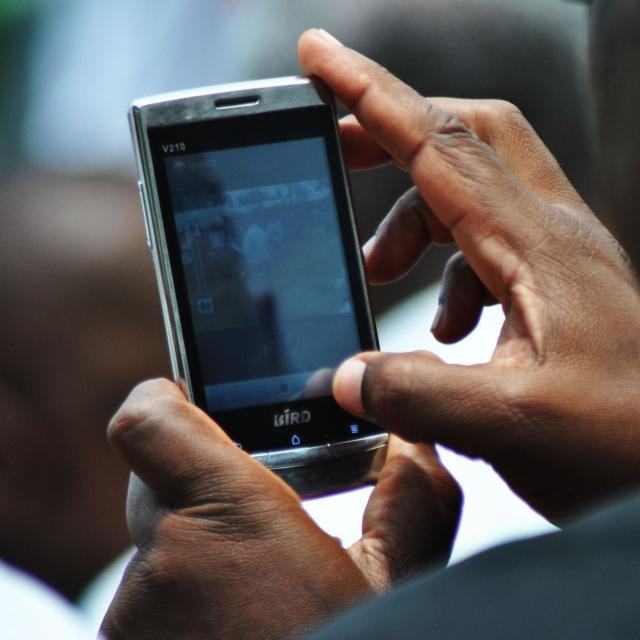Mobile: (119, 71, 429, 514)
